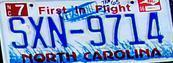placa de veiculo: (1, 1, 165, 60)
